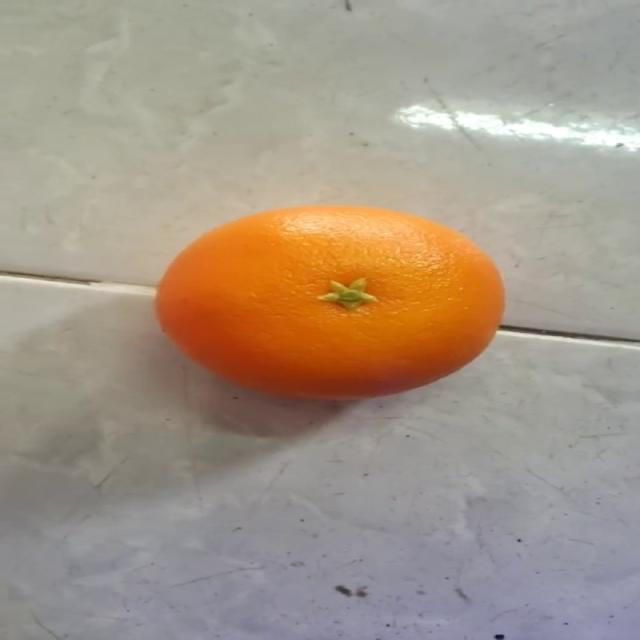Orange: (153, 202, 506, 401)
